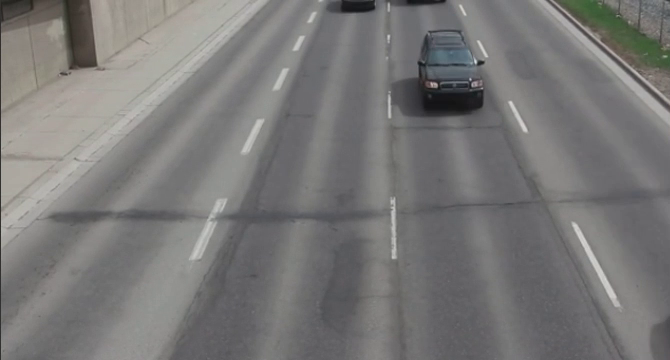car: (415, 27, 487, 116)
